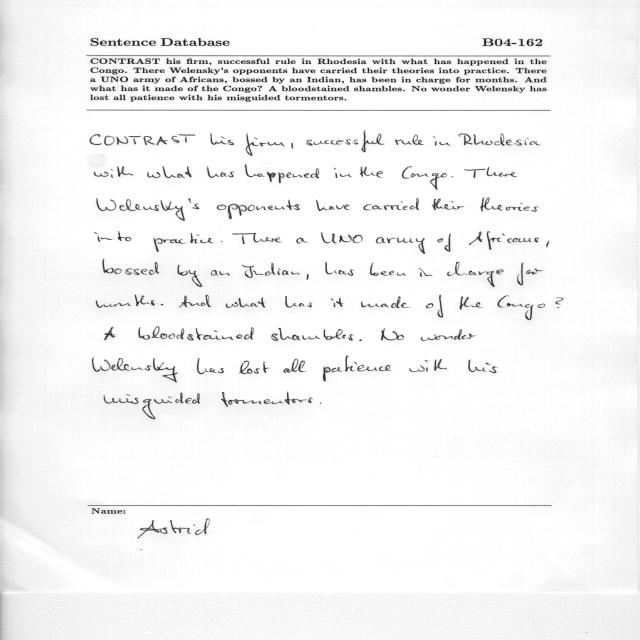word: (104, 393, 200, 420), (97, 198, 199, 221), (93, 358, 178, 383), (323, 356, 392, 381), (306, 131, 385, 152), (138, 327, 254, 341), (217, 200, 300, 219), (447, 262, 504, 287), (245, 165, 319, 184), (221, 392, 313, 407), (469, 231, 538, 250), (90, 134, 196, 146), (497, 295, 545, 320), (154, 233, 213, 252), (402, 166, 447, 190), (271, 328, 354, 341), (459, 133, 541, 146), (246, 133, 285, 156), (103, 259, 159, 275), (480, 197, 539, 212), (242, 263, 300, 278), (376, 237, 425, 254), (96, 295, 155, 308), (364, 198, 419, 210), (421, 329, 475, 341), (517, 263, 543, 286), (464, 167, 517, 178), (361, 296, 409, 308), (232, 233, 282, 244), (178, 265, 203, 287), (147, 166, 192, 178), (410, 359, 448, 372), (94, 166, 134, 178), (370, 263, 406, 276), (321, 232, 363, 243), (197, 358, 224, 374), (226, 297, 265, 308), (179, 295, 211, 308), (95, 231, 132, 242), (325, 262, 354, 276), (426, 295, 443, 318), (240, 361, 270, 374), (469, 360, 498, 373), (316, 200, 350, 211), (432, 199, 465, 210), (207, 166, 234, 178), (285, 296, 312, 308), (284, 359, 306, 373), (395, 135, 424, 145), (211, 133, 235, 145), (460, 296, 482, 309), (381, 329, 404, 341), (360, 167, 383, 178), (437, 234, 451, 252), (433, 136, 451, 146), (334, 168, 352, 178), (104, 327, 115, 340), (419, 268, 432, 277), (211, 270, 230, 276), (331, 298, 343, 307), (555, 297, 564, 308), (296, 238, 307, 244), (546, 241, 549, 248), (306, 274, 309, 280), (291, 143, 293, 149), (160, 304, 163, 306), (359, 339, 362, 341), (320, 402, 322, 404), (452, 176, 454, 177), (221, 241, 222, 242)
